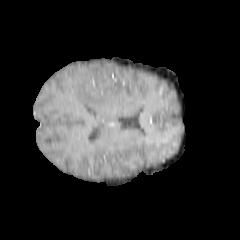glioma: (74, 81, 116, 109)
